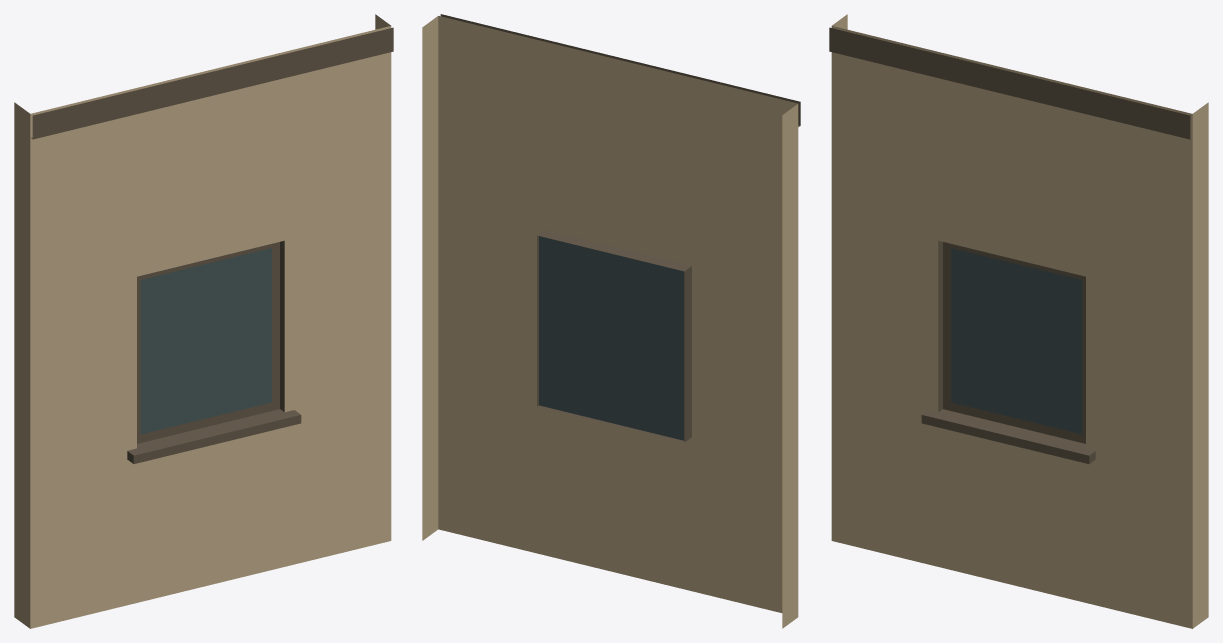
The model's file is mid-stair3.fbx.
The picture shows the model from 3 angles, left to right: view 1: azimuth 30°, elevation 25°; view 2: azimuth 150°, elevation 25°; view 3: azimuth 330°, elevation 25°; orthographic projection.
Parts seen in each view (by area): view 1: a2015/0/mid-stair; view 2: a2015/0/mid-stair; view 3: a2015/0/mid-stair.
Boxes of the visible parts, x1,y1,x2,y2 form: a2015/0/mid-stair: (14,14,393,628); a2015/0/mid-stair: (422,14,800,628); a2015/0/mid-stair: (829,14,1208,628).
Size of the model in its own units: 2.2 by 3 by 0.24.
